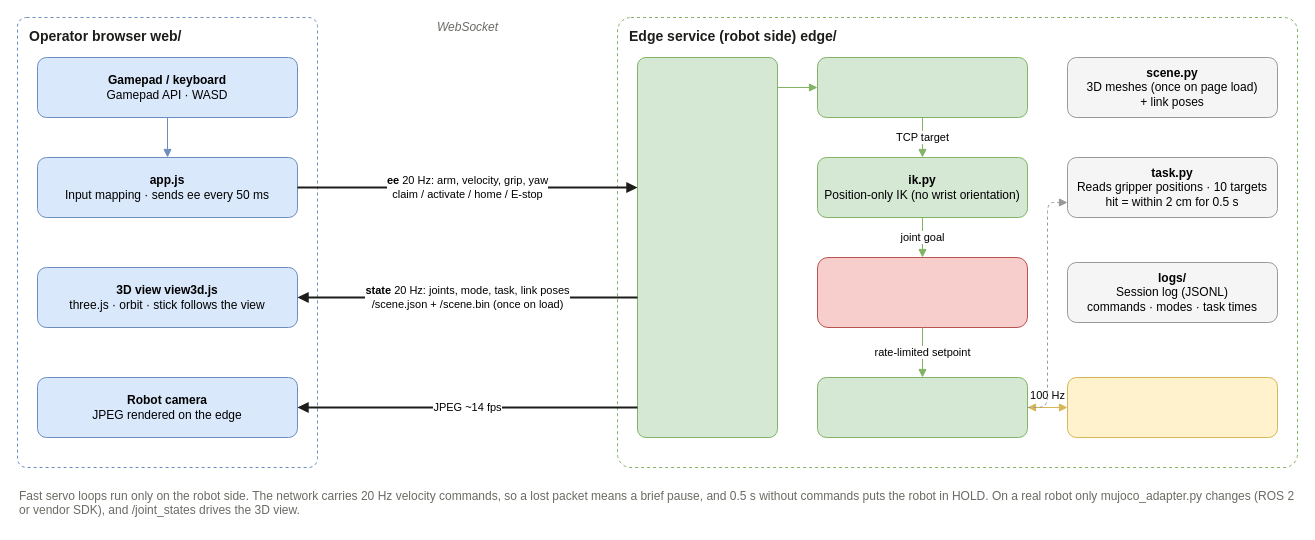
This 1315x540 diagram has some shape labels left out. The centre of each missing label's shape, as x and y in pixels:
"MuJoCo physics OpenArm v1 bimanual · 16 actuators" goes at (x=1172, y=407).
"mujoco_adapter.py Read state · write targets · render camera" goes at (x=922, y=407).
"safety.py Joint limits · 1 rad/s rate limit 0.5 s watchdog → HOLD · E-stop" goes at (x=922, y=292).
"server.py WebSocket + 100 Hz control loop" goes at (x=707, y=247).
"teleop.py Integrates velocity into gripper target ≤ 0.15 m/s" goes at (x=922, y=87).
